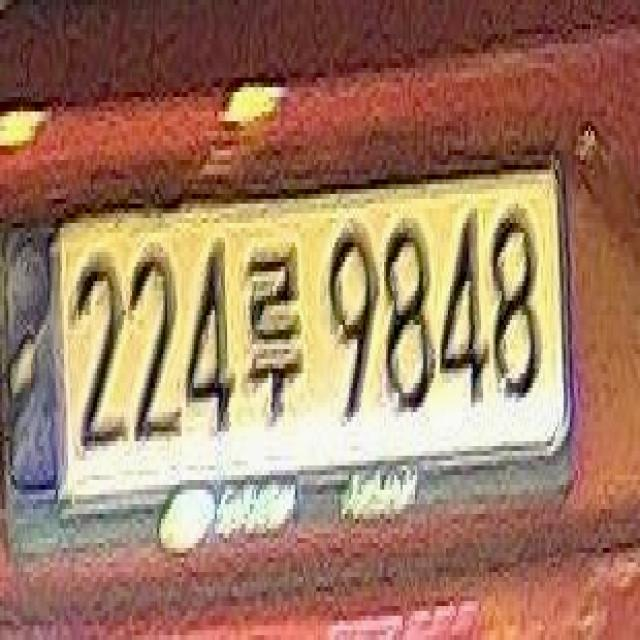illegal_plate: (19, 172, 571, 542)
